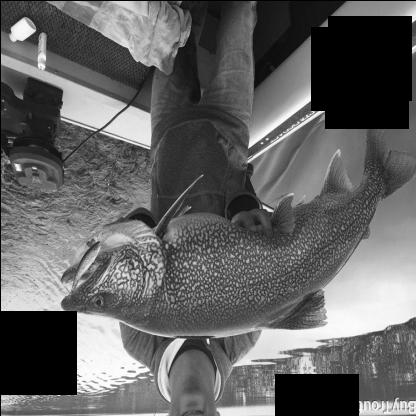fish: (58, 98, 415, 339)
